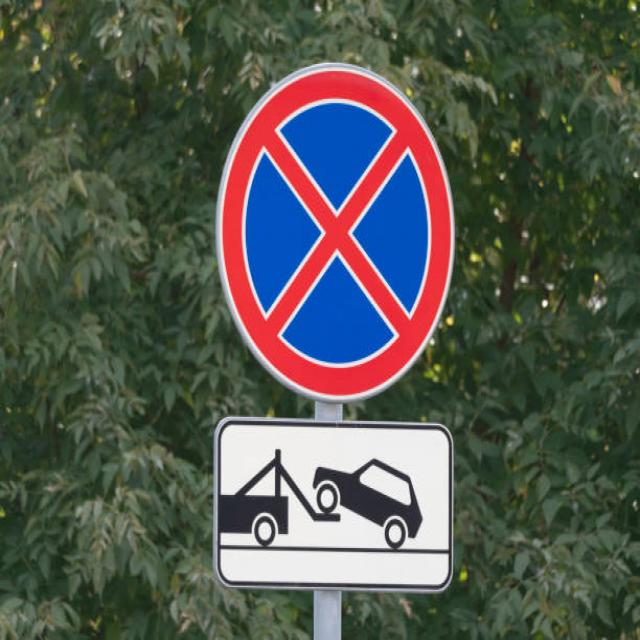no_parking: (217, 62, 465, 410)
